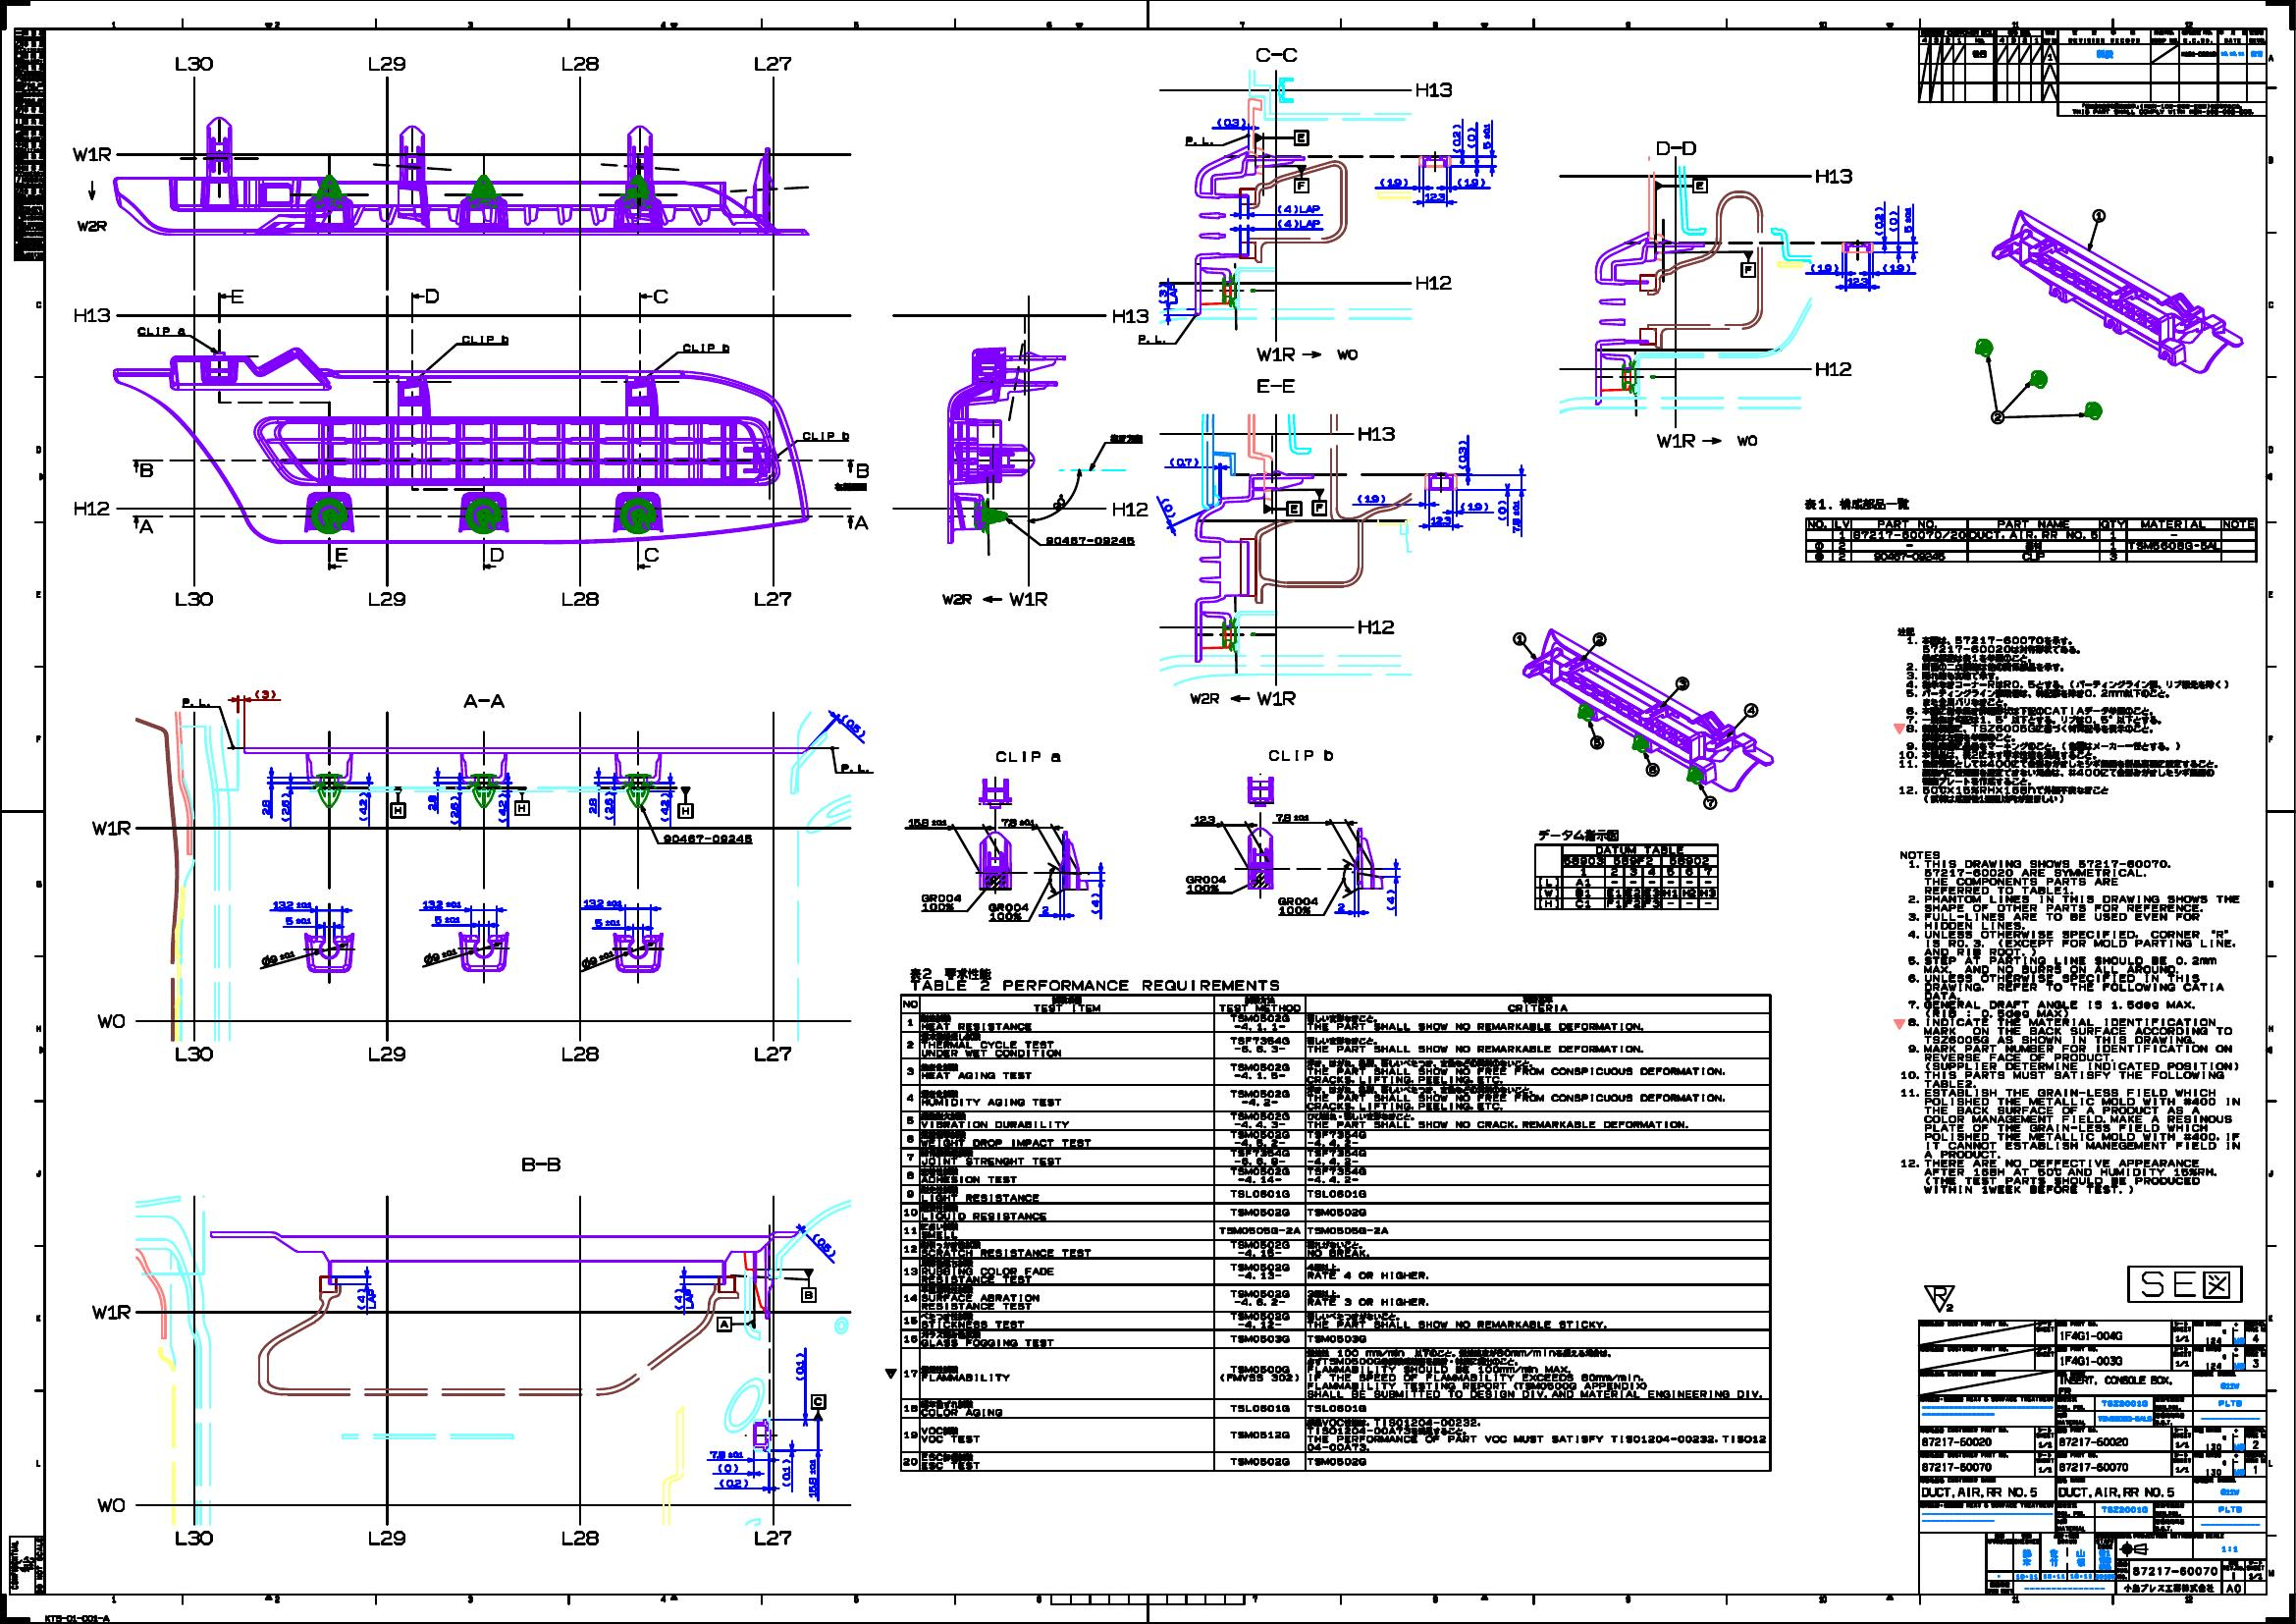anntotation_text: (882, 963, 1774, 1478), (1890, 849, 2245, 1193), (1890, 624, 2231, 808), (1801, 494, 2259, 562), (1530, 826, 1725, 910), (2127, 1262, 2243, 1304), (72, 142, 114, 236), (7, 1534, 44, 1596), (1188, 687, 1296, 707), (1251, 344, 1360, 364), (1655, 432, 1760, 450), (1267, 747, 1339, 765), (993, 749, 1063, 765), (1042, 534, 1138, 545), (1655, 174, 1708, 193), (557, 1529, 604, 1550), (1924, 1283, 1957, 1313), (1414, 271, 1455, 295), (172, 51, 216, 72), (559, 54, 603, 76), (750, 53, 794, 74), (559, 585, 603, 606), (69, 501, 112, 522), (460, 691, 508, 710), (74, 306, 116, 327), (987, 902, 1029, 923), (172, 1527, 214, 1548), (518, 1155, 564, 1174), (1651, 137, 1700, 155), (750, 589, 794, 608), (365, 589, 409, 608), (172, 591, 216, 610), (1184, 874, 1228, 893), (1256, 130, 1309, 146), (365, 53, 408, 72), (1275, 895, 1318, 914), (365, 1529, 408, 1548), (662, 833, 752, 842), (1414, 79, 1455, 98), (559, 1044, 599, 1063), (752, 1042, 792, 1062), (1254, 47, 1298, 65), (172, 1044, 216, 1062), (1112, 499, 1151, 518), (44, 1613, 114, 1624), (1007, 591, 1049, 608), (1813, 169, 1855, 186), (919, 893, 961, 910), (750, 1527, 792, 1545), (90, 817, 132, 835), (365, 1046, 406, 1063), (715, 1315, 755, 1332), (1356, 619, 1398, 634), (1813, 360, 1855, 376), (88, 1304, 130, 1320), (386, 786, 406, 819), (1277, 216, 1323, 230), (1110, 306, 1151, 322), (460, 332, 511, 344), (93, 1496, 128, 1513), (95, 1009, 126, 1028), (682, 341, 731, 353), (676, 786, 694, 819), (1256, 378, 1296, 392), (1356, 425, 1397, 439), (1156, 283, 1179, 308), (940, 591, 975, 606), (799, 1267, 815, 1302), (1263, 501, 1302, 515), (799, 429, 850, 439), (673, 1288, 696, 1311), (135, 323, 184, 334), (513, 787, 531, 816), (1275, 202, 1321, 213), (1293, 163, 1309, 193), (1739, 251, 1757, 278), (357, 1287, 374, 1313), (1312, 489, 1326, 515), (1184, 134, 1214, 146), (422, 288, 441, 306), (650, 288, 669, 306), (643, 547, 662, 564), (487, 545, 504, 564), (137, 517, 155, 536), (179, 696, 211, 707), (840, 761, 871, 772), (1137, 332, 1166, 343), (228, 286, 246, 304), (332, 547, 350, 564), (137, 464, 155, 482), (1590, 629, 1607, 647), (2089, 206, 2108, 221), (812, 1394, 824, 1418), (856, 462, 871, 480), (1674, 675, 1692, 691), (1590, 733, 1606, 750), (854, 515, 870, 531), (1511, 631, 1527, 647), (1743, 701, 1758, 717), (1644, 761, 1660, 777), (1989, 411, 2006, 425), (1110, 434, 1142, 441), (1702, 796, 1718, 808)
dimension_text: (422, 898, 462, 910), (260, 951, 295, 965), (657, 791, 671, 824), (1216, 116, 1247, 130), (601, 791, 615, 823), (271, 898, 313, 909), (806, 1455, 817, 1497), (580, 953, 615, 965), (422, 949, 457, 961), (1873, 206, 1885, 237), (1354, 492, 1386, 504), (998, 816, 1035, 826), (357, 791, 369, 823), (495, 791, 508, 823), (792, 1352, 805, 1383), (708, 1448, 745, 1459), (279, 791, 290, 826), (1901, 206, 1913, 236), (1451, 123, 1463, 153), (906, 817, 947, 826), (581, 898, 622, 907), (717, 1476, 750, 1487), (1881, 262, 1913, 272), (1808, 262, 1839, 272), (1456, 178, 1488, 188), (1166, 455, 1198, 466), (1458, 501, 1490, 511), (448, 794, 458, 826), (780, 1457, 791, 1489), (1274, 814, 1310, 823), (1379, 178, 1409, 188), (806, 1241, 836, 1251), (1513, 499, 1521, 534), (838, 719, 866, 729), (432, 914, 460, 924), (1481, 123, 1491, 149), (285, 914, 311, 924), (592, 917, 622, 926), (1888, 209, 1899, 234), (1465, 125, 1476, 149), (1497, 497, 1507, 522), (1430, 513, 1451, 526), (1458, 439, 1467, 468), (1846, 276, 1869, 286), (1423, 192, 1446, 202), (1158, 503, 1180, 513), (1193, 814, 1216, 824), (1089, 893, 1100, 916), (253, 689, 276, 700), (260, 796, 271, 816), (587, 796, 597, 816), (1384, 888, 1393, 910), (1049, 497, 1066, 508), (427, 793, 437, 810), (717, 1462, 738, 1471), (1337, 902, 1346, 912), (1038, 905, 1049, 914)
object: (130, 707, 852, 1049), (130, 1192, 852, 1529), (109, 344, 813, 548), (109, 112, 815, 237), (1161, 411, 1456, 691), (1555, 167, 1876, 415), (1156, 67, 1419, 325), (1969, 206, 2245, 422), (1521, 629, 1778, 793), (943, 343, 1068, 543), (1247, 773, 1386, 891), (973, 775, 1091, 893)
title_block: (1917, 1318, 2268, 1594), (1918, 26, 2266, 116), (14, 26, 46, 262)
